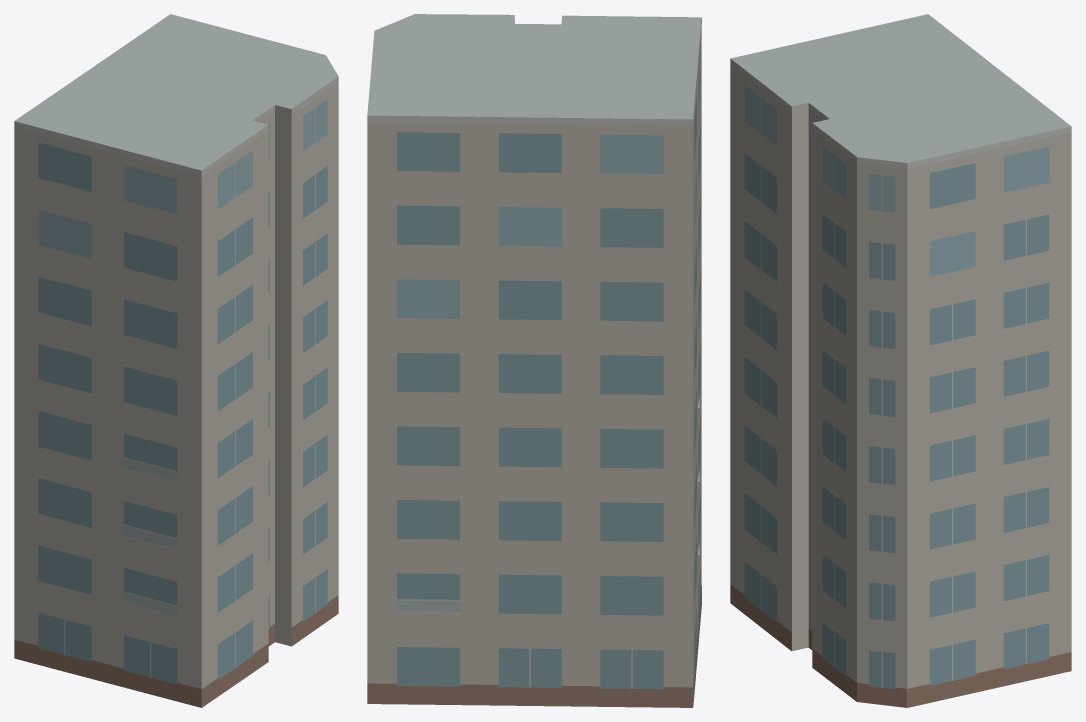
Rendered from survey-upis-32679066.glb.
The picture shows the model from 3 angles, left to right: view 1: azimuth 30°, elevation 25°; view 2: azimuth 150°, elevation 25°; view 3: azimuth 270°, elevation 25°; orthographic projection. The views are drawn at different scales.
Parts seen in each view (by area): view 1: survey-upis-32679066.tmp; view 2: survey-upis-32679066.tmp; view 3: survey-upis-32679066.tmp.
Part boxes in pixels (bbox=[...]): survey-upis-32679066.tmp: bbox=[14, 14, 338, 707]; survey-upis-32679066.tmp: bbox=[367, 14, 701, 707]; survey-upis-32679066.tmp: bbox=[730, 14, 1071, 707].
Size of the model in its own units: 13.1 by 22.3 by 12.66.
